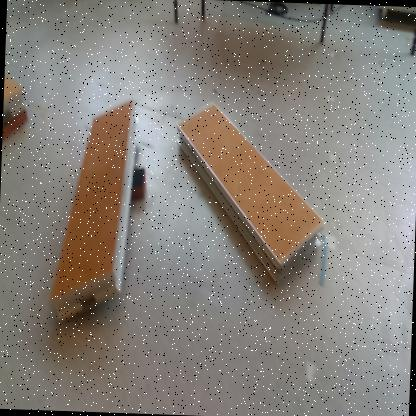Stairs: (179, 104, 325, 286), (52, 102, 140, 327), (4, 75, 26, 125)
